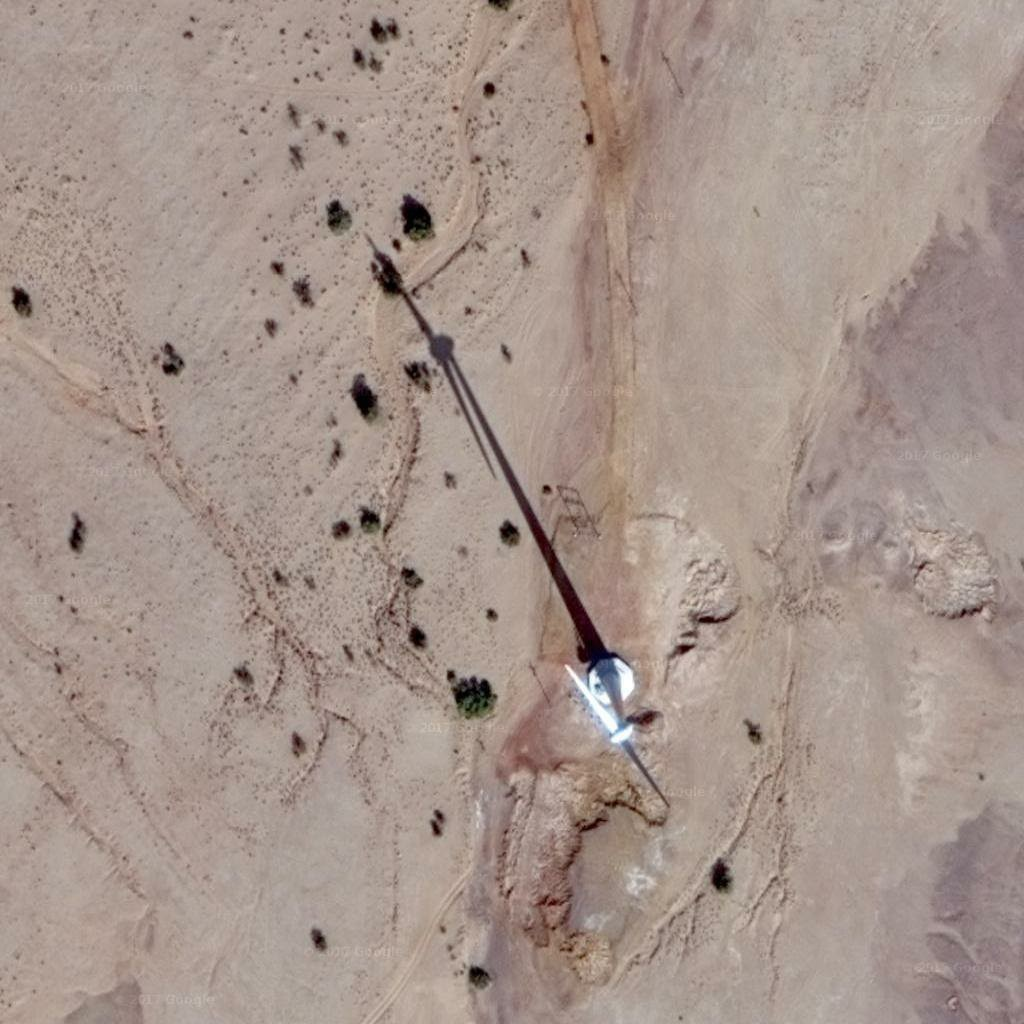Windmill: (362, 235, 613, 660)
